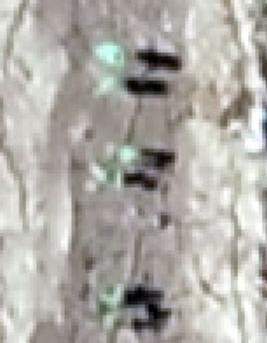cotton: (97, 44, 125, 65), (102, 288, 124, 307), (119, 144, 140, 163), (98, 167, 119, 185), (115, 309, 146, 321), (100, 78, 118, 92)
